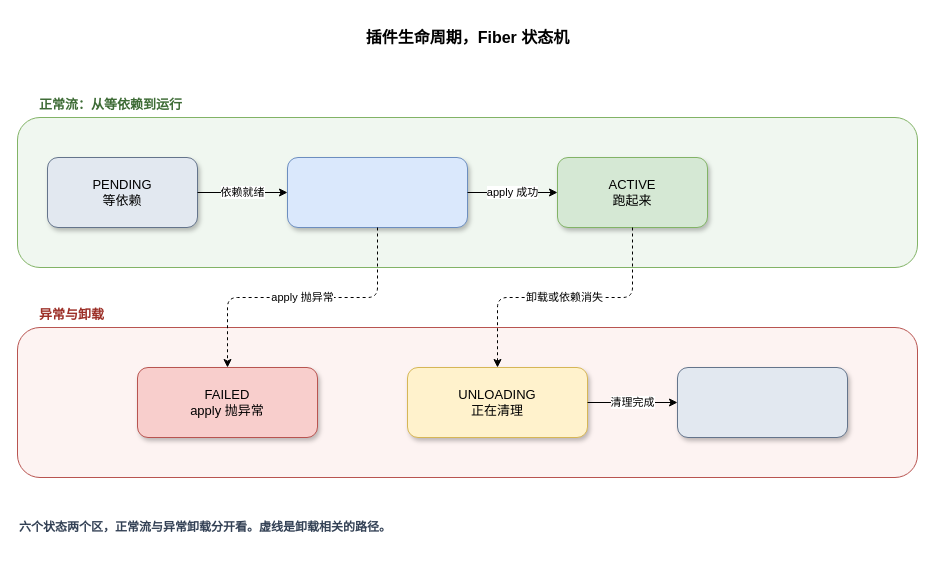
Some shapes in this 935 by 564 pixel diagram are drawn without their labels. Here are the shapes that lost their labels. From the top down, the centre of each, then its label:
At point (378, 193): "LOADING 正在执行 apply".
At point (763, 403): "DISPOSED 彻底消失".
